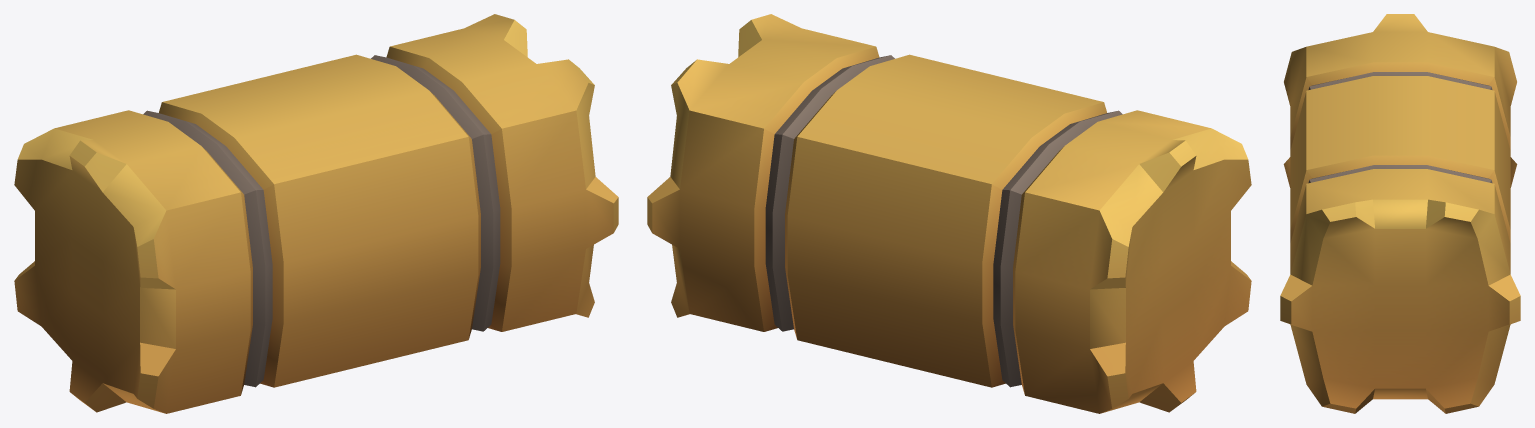
File: haybale.gltf
The picture shows the model from 3 angles, left to right: view 1: azimuth 30°, elevation 25°; view 2: azimuth 150°, elevation 25°; view 3: azimuth 270°, elevation 25°; orthographic projection. The views are drawn at different scales.
Visible parts, largest first — view 1: haybale; view 2: haybale; view 3: haybale.
Boxes of the visible parts, bbox=[...] form: haybale: bbox=[14, 14, 618, 413]; haybale: bbox=[647, 14, 1251, 413]; haybale: bbox=[1280, 14, 1520, 413].
Bounding box in the file's own units: 2.09 × 1.09 × 1.09.
1 material, 1 textured.
